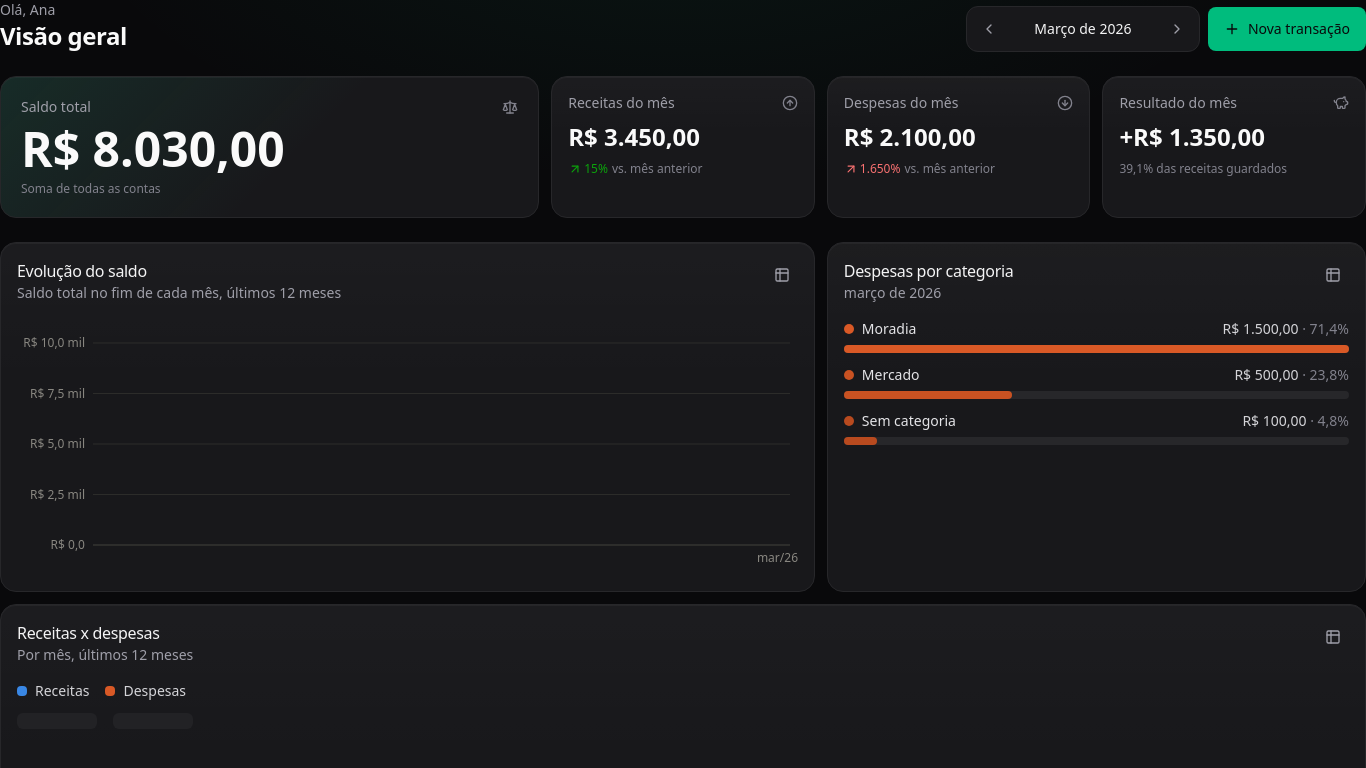
Test: DashboardPage › requests every block for the month in the URL and navigates months
The width and height of the screenshot is (1366, 768).
Expected: the element named "Resumo do mês" is shown, [0,76,1365,218]
Click the button named "Mês anterior" at (989, 29), box [971,11,1007,47]
(page scrolled)
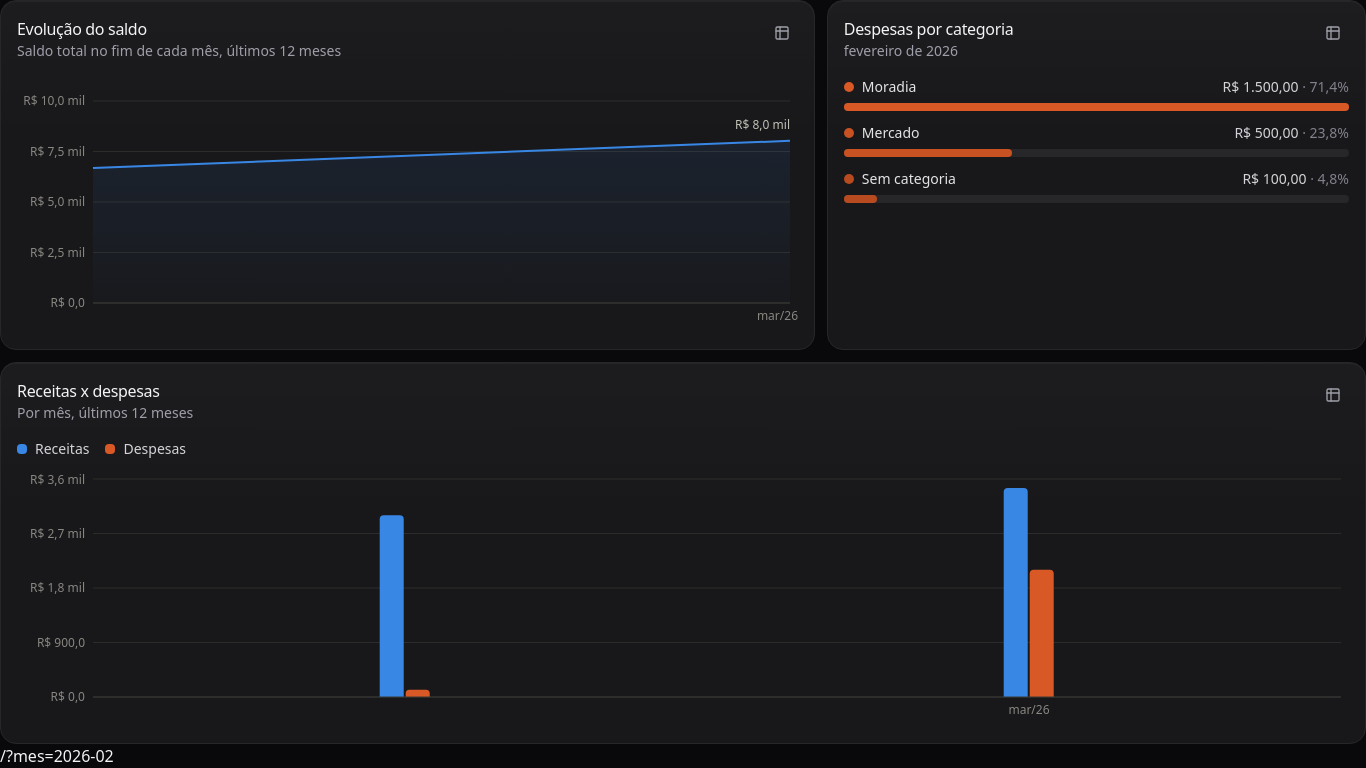
Now the text "fevereiro de 2026" is shown, box [844,41,958,60]
Now the text with test id "location" reads "/?mes=2026-02", box [6,745,114,767]
